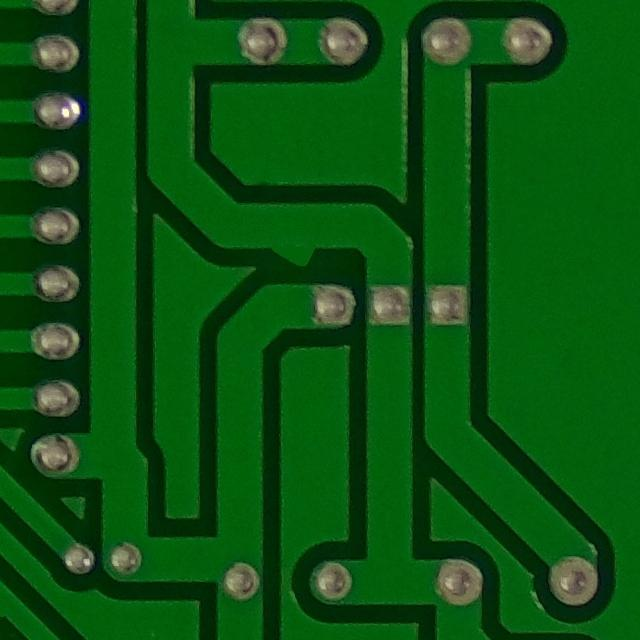spur: (263, 225, 344, 278)
